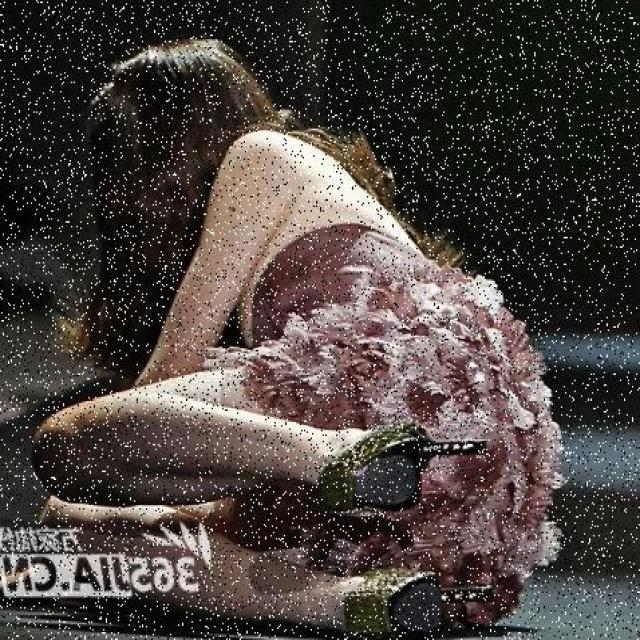fall: (47, 41, 550, 618)
